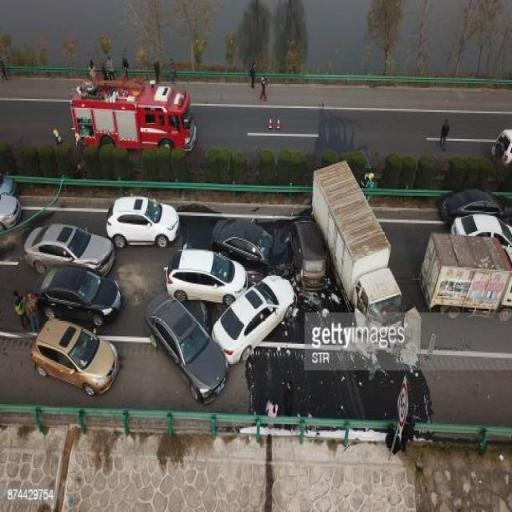小汽车: (66, 71, 196, 154), (35, 318, 120, 398), (35, 266, 128, 323), (24, 222, 115, 271), (99, 196, 177, 248)
小汽车撞小汽车: (154, 213, 312, 400)
